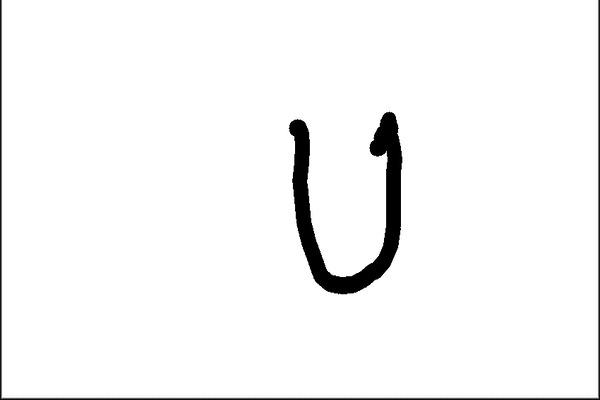U: (277, 111, 421, 297)
